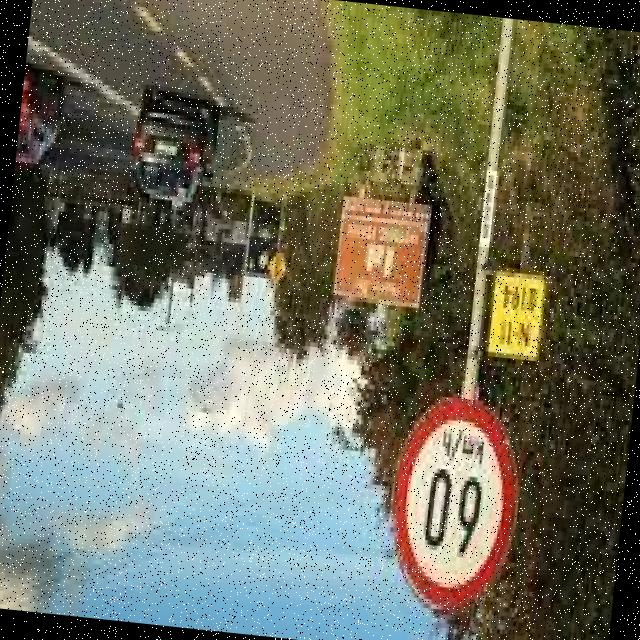speed_limit_60: (380, 383, 531, 622)
